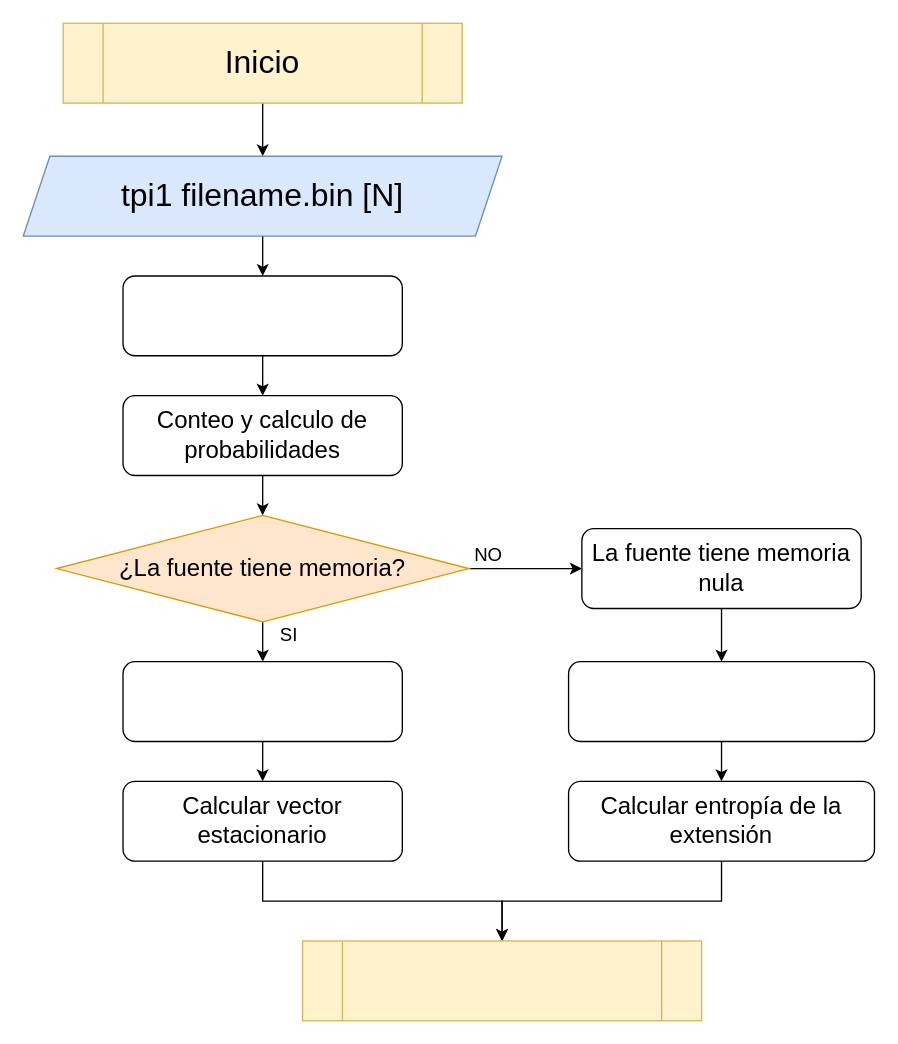
This 898x1044 diagram has some shape labels left out. Each missing label, with the centre of its shape:
"Fin" goes at [501,980].
"Generación de extensión N y sus probabilidades" goes at [720,700].
"La fuente tiene memoria NO nula" goes at [262,700].
"Leer archivo binario" goes at [262,315].
